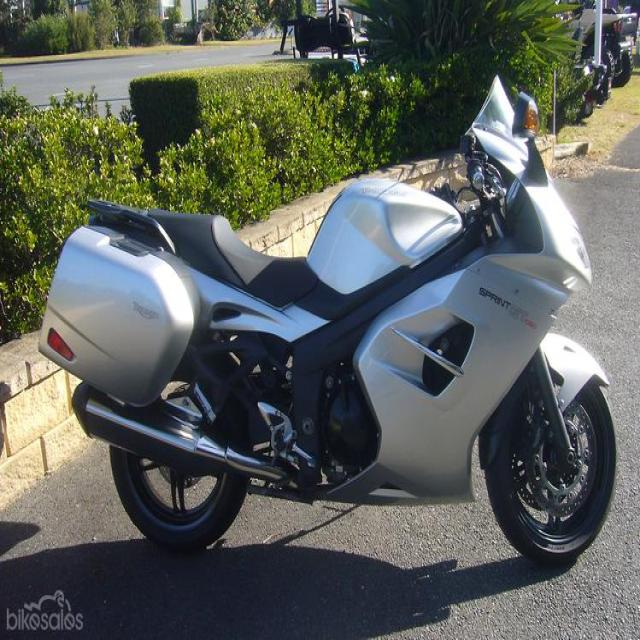Motorcycle: (39, 76, 618, 566)
